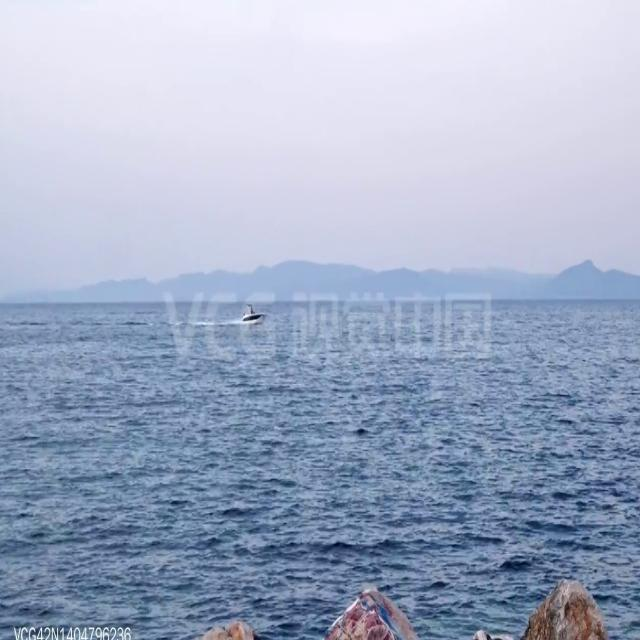houseboat: (240, 300, 266, 324)
